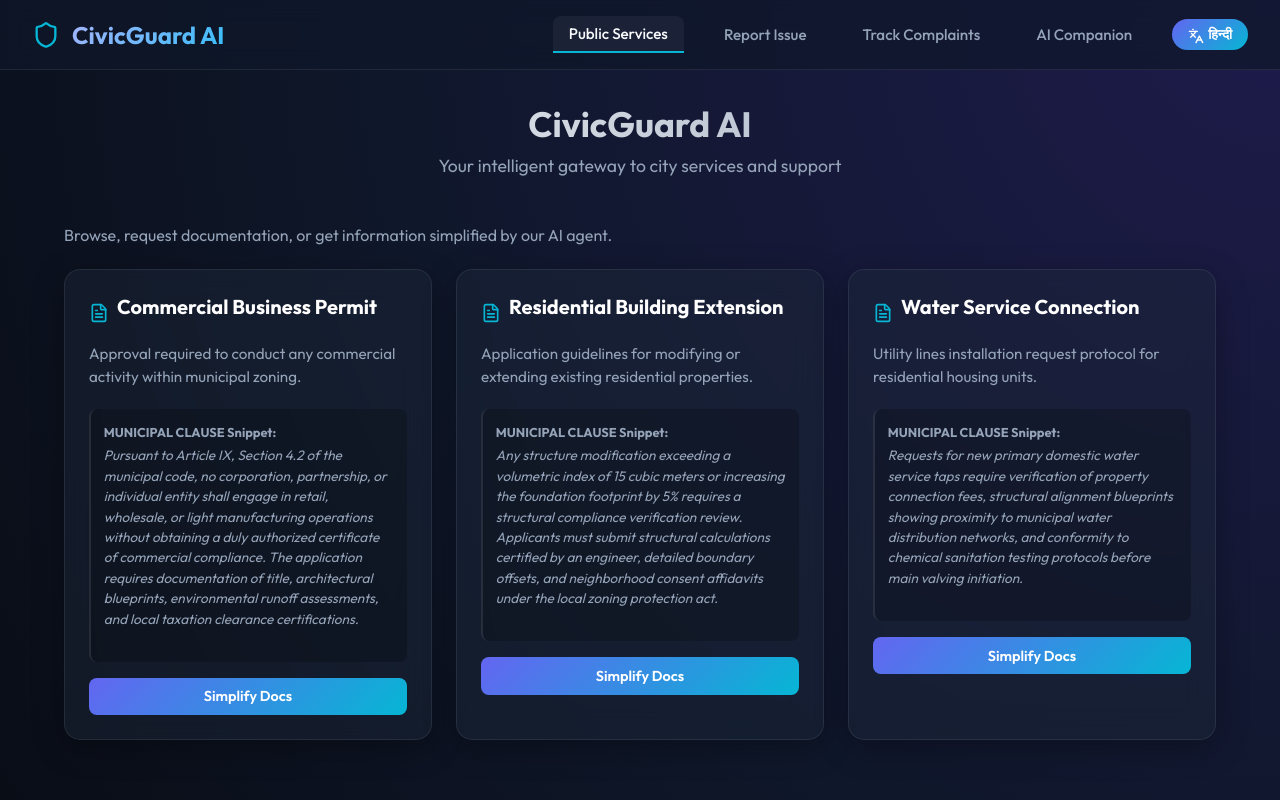
Scenario: Language toggle › toggles to Hindi – lang toggle button shows English
The image size is (1280, 800).
Click the button named "switch language to hindi". click: {"x": 1210, "y": 35}
box: [1172,19,1248,50]
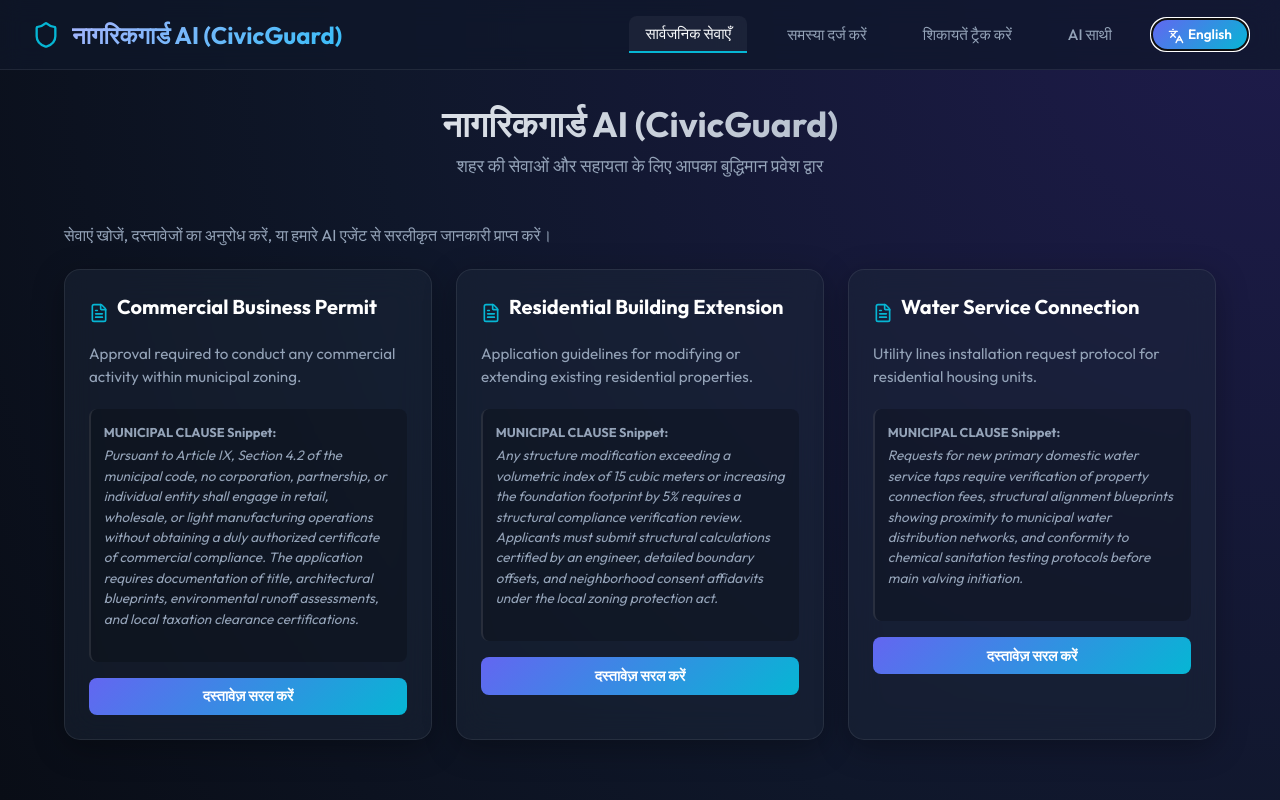
Expected: the button "English" is shown, [1152,19,1248,50]
